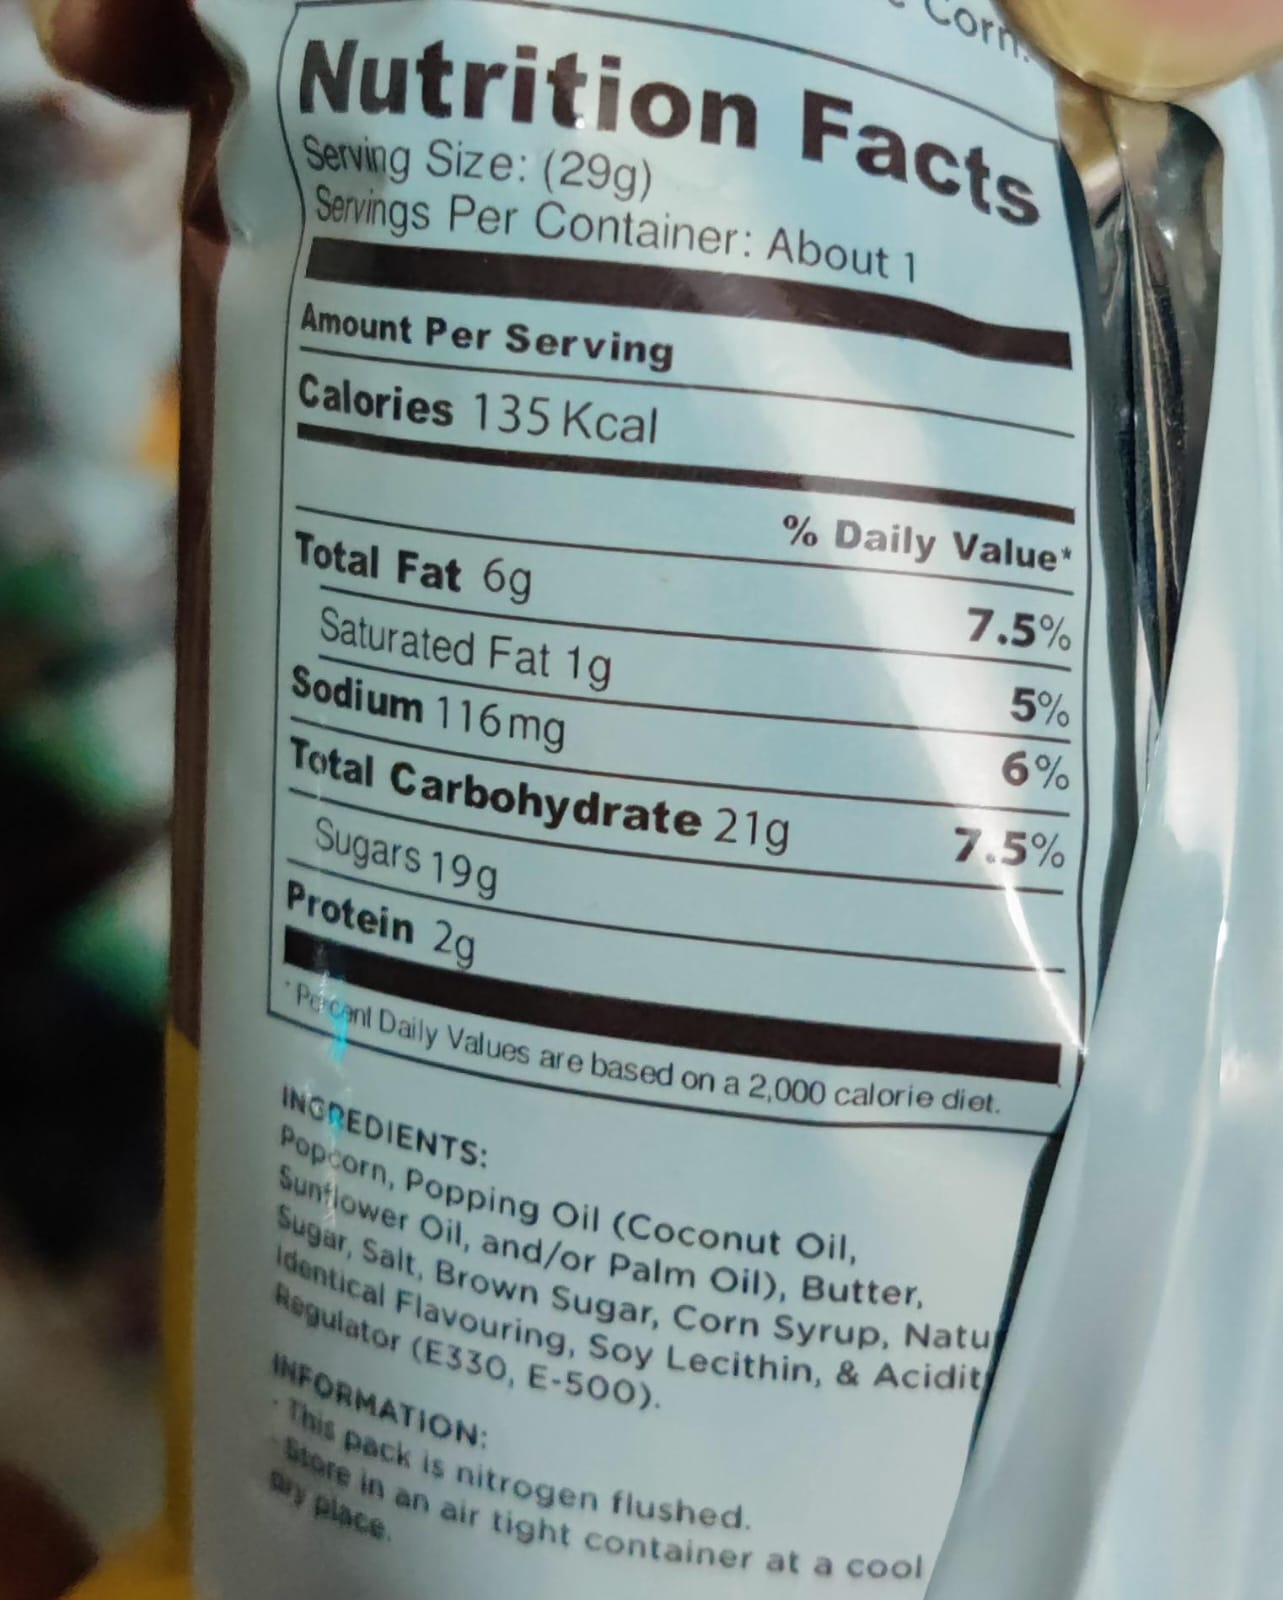table: (276, 21, 1094, 1133)
